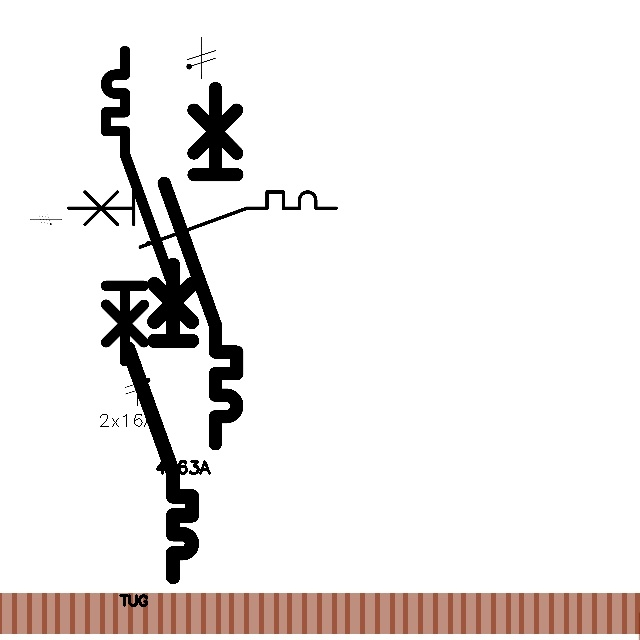interruptor_termomagnetico: (155, 79, 246, 453), (120, 257, 200, 585), (98, 43, 178, 369), (61, 185, 342, 254)
